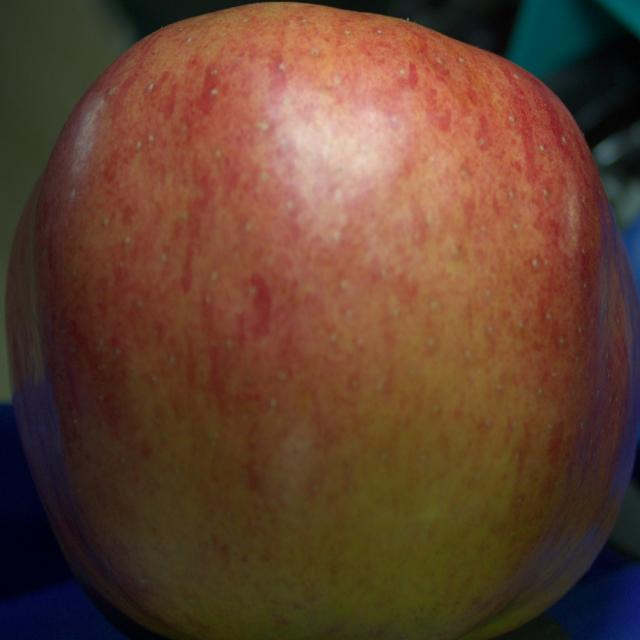apple: (6, 3, 639, 639)
